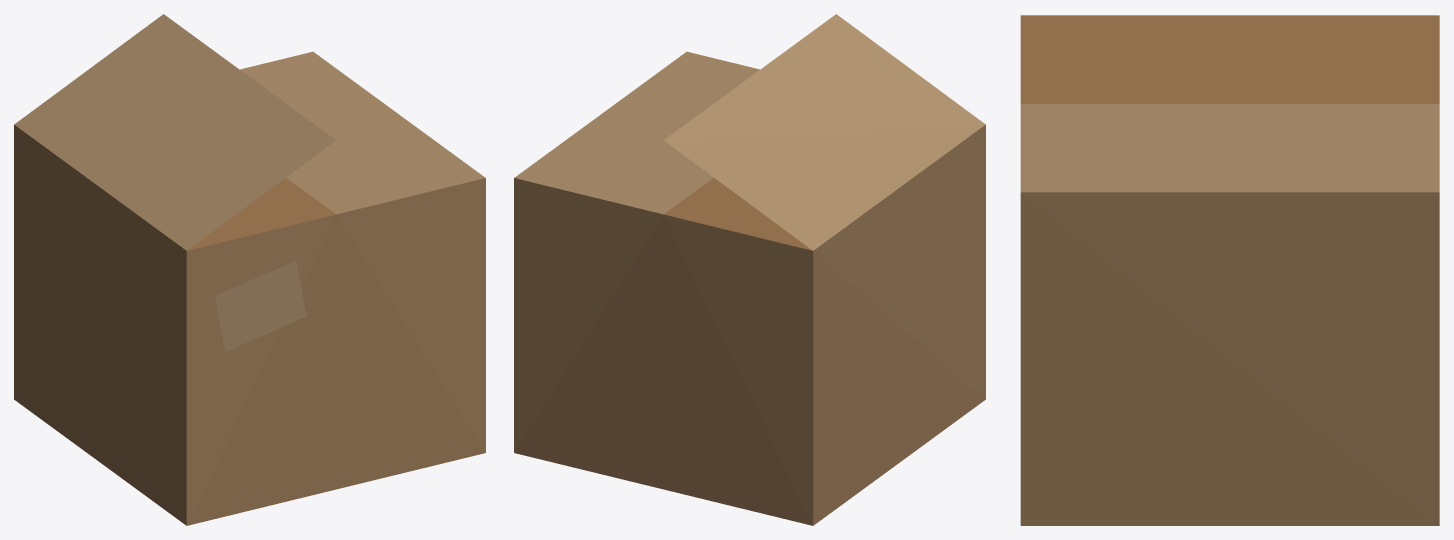
File: kk_city_box_B.glb
3 views of the same model, side by side, from view 1: azimuth 30°, elevation 25°; view 2: azimuth 150°, elevation 25°; view 3: azimuth 270°, elevation 25° (orthographic). The views are drawn at different scales.
Parts seen in each view (by area): view 1: kk_city_box_B; view 2: kk_city_box_B; view 3: kk_city_box_B.
Boxes of the visible parts, x1,y1,x2,y2 form: kk_city_box_B: (14, 14, 485, 525); kk_city_box_B: (514, 14, 985, 525); kk_city_box_B: (1020, 15, 1439, 525).
Size of the model in its own units: 0.1521 by 0.1696 by 0.1544.
